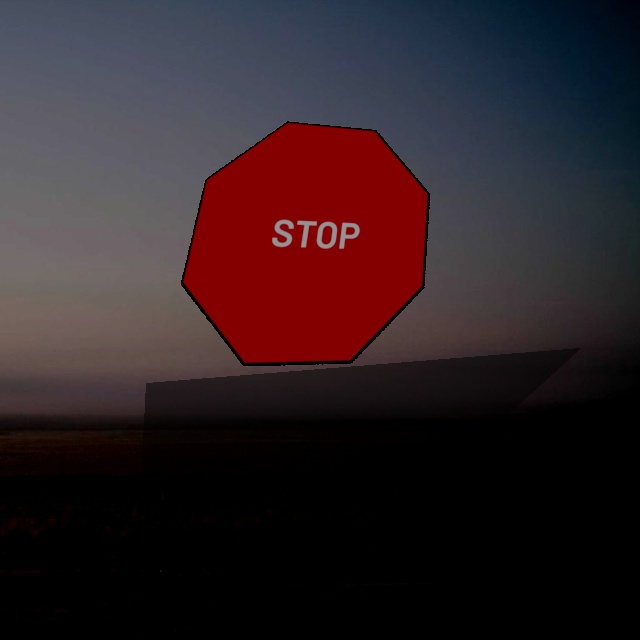STOP: (180, 121, 430, 366)
